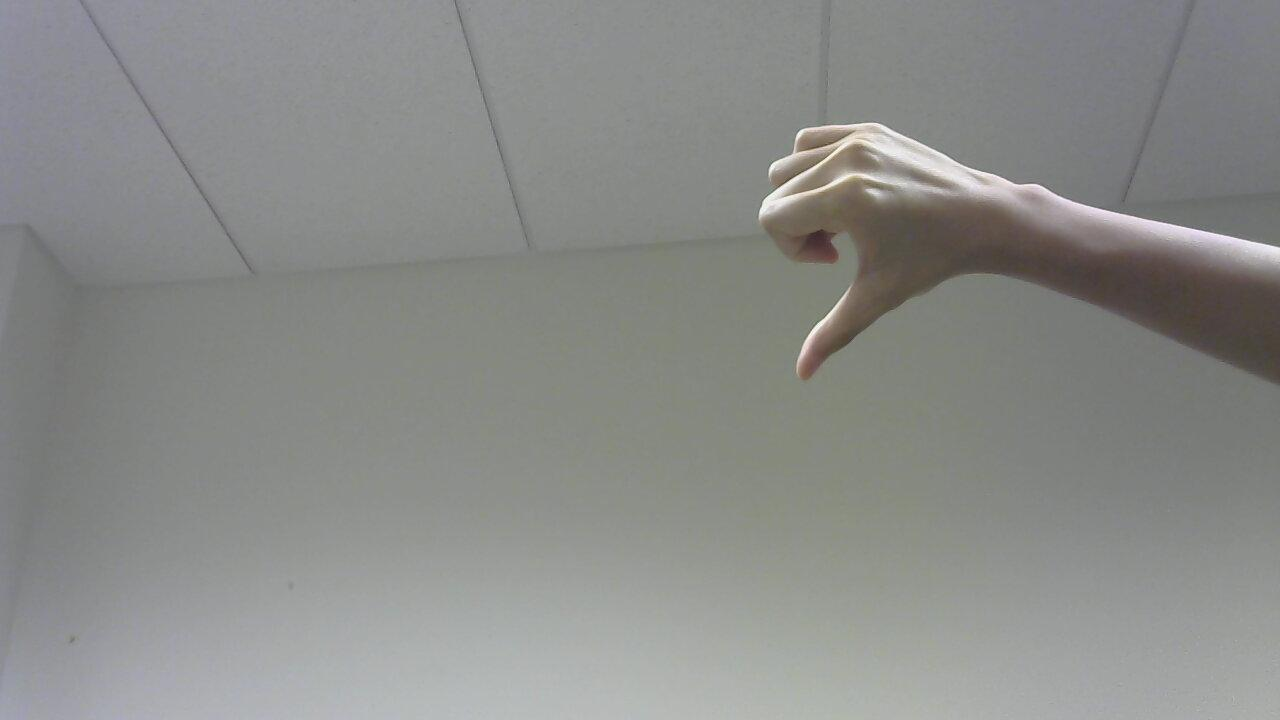hands: (748, 94, 1004, 403)
